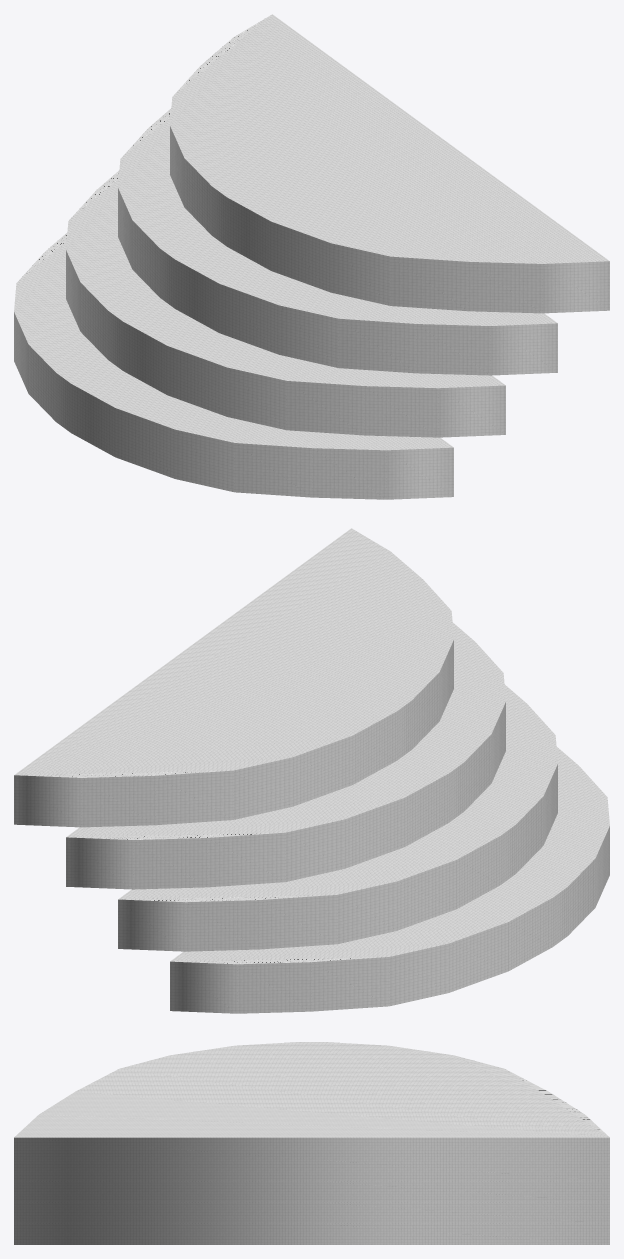
File: poolstairs.fbx
3 renders of one model, top to bottom at view 1: azimuth 30°, elevation 25°; view 2: azimuth 150°, elevation 25°; view 3: azimuth 270°, elevation 25°, orthographic. The views are drawn at different scales.
Parts seen in each view (by area): view 1: PoolStairs; view 2: PoolStairs; view 3: PoolStairs.
Boxes of the visible parts, <box> form: PoolStairs: <box>14,14,609,499</box>; PoolStairs: <box>14,528,609,1013</box>; PoolStairs: <box>14,1042,609,1244</box>.
Size of the model in its own units: 7.27 by 11.25 by 3.64.
